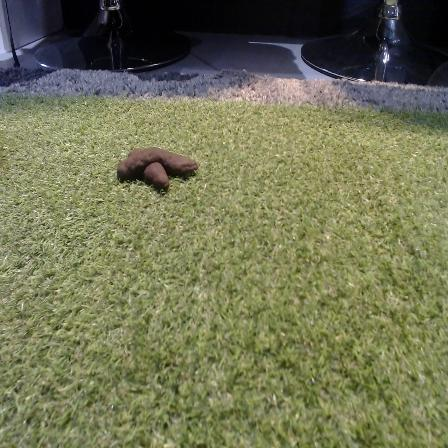dog-poop: (115, 139, 201, 192)
